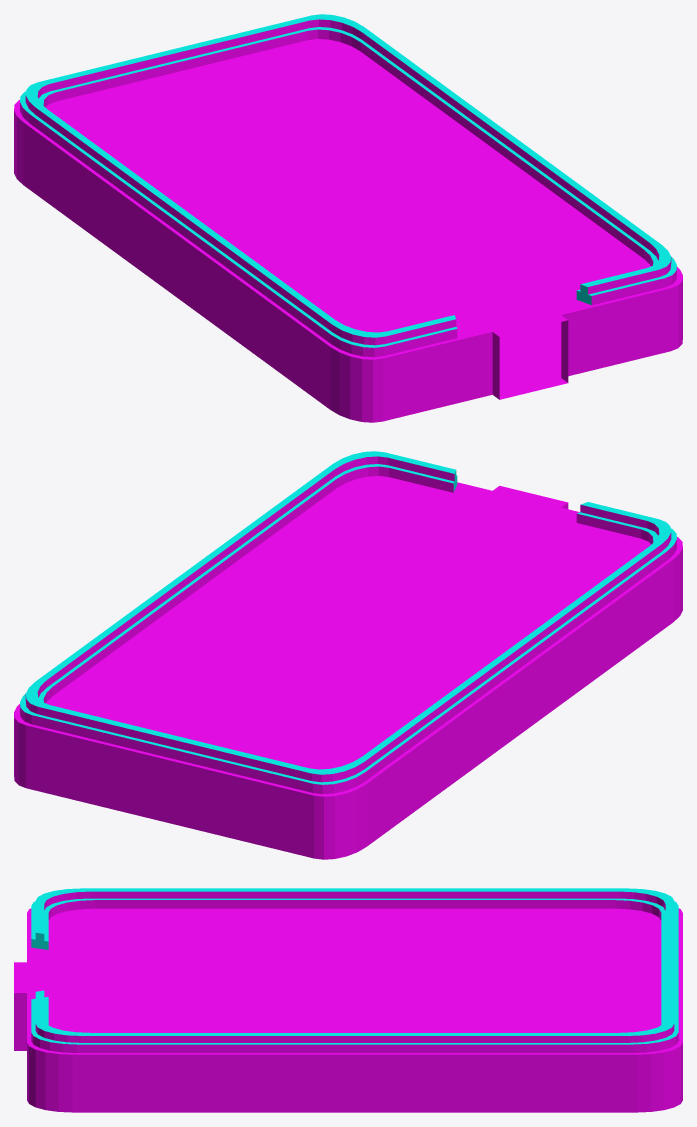
File: main.fbx
3 renders of one model, top to bottom at view 1: azimuth 30°, elevation 25°; view 2: azimuth 150°, elevation 25°; view 3: azimuth 270°, elevation 25°, orthographic. The views are drawn at different scales.
Visible parts, largest first — view 1: main; view 2: main; view 3: main.
Boxes of the visible parts, box(x1,y1,x2,y2) form: main: box(14, 14, 682, 422); main: box(14, 451, 682, 859); main: box(14, 888, 682, 1112).
Bounding box in the file's own units: 1141 × 254 × 2096.
